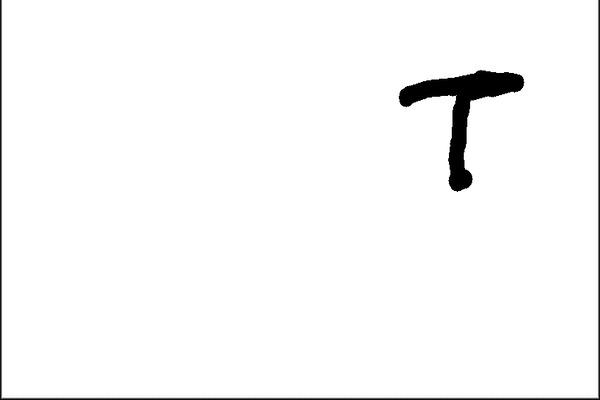T: (389, 50, 534, 194)
